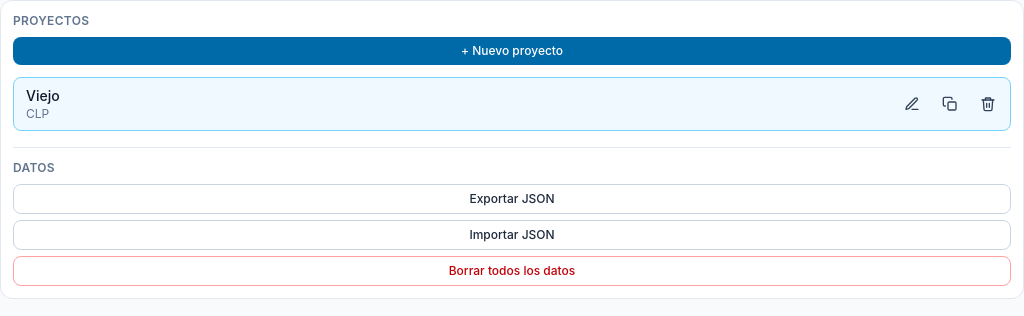
Scenario: Sidebar › renombra desde la lista con Enter
Click the button named "Renombrar Viejo" at point(912, 104), box [894,90,930,118]
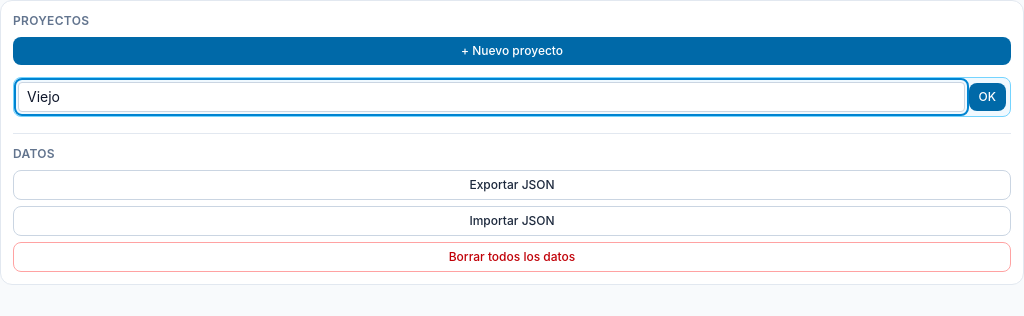
Replace the text in the field named "Nuevo nombre del proyecto" with "Nuevo" at point(491, 97), box [18,82,964,112]
Then press Enter
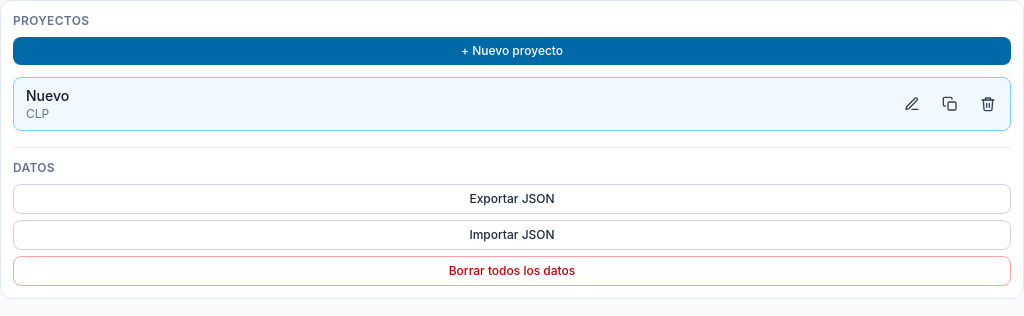
Expected: the text "Nuevo" is shown, [26,87,69,104]
